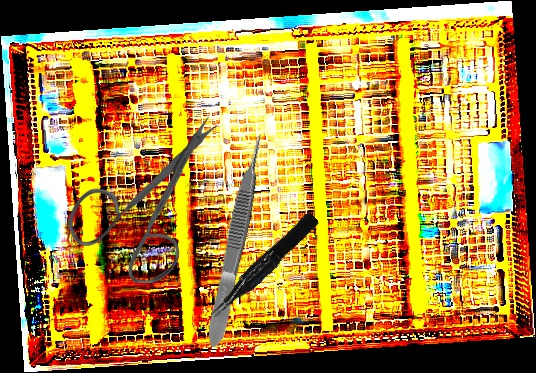Iris Scissors: (66, 115, 222, 285)
Tissue Forceps: (202, 131, 272, 350), (202, 211, 324, 321)
